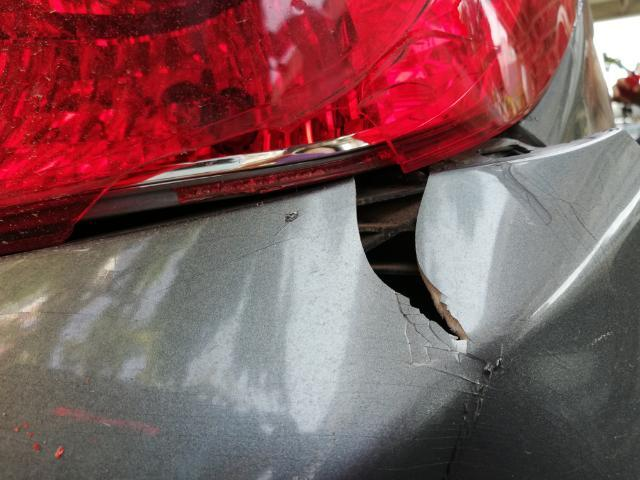crack: (353, 175, 464, 346)
